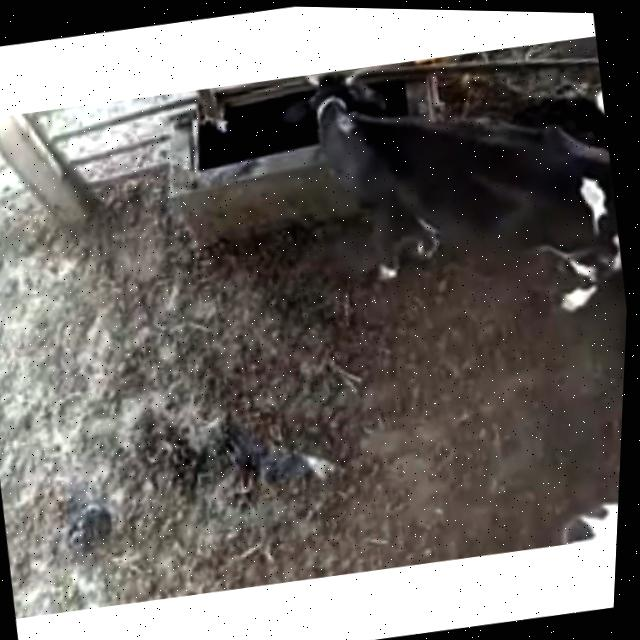drink: (227, 56, 431, 208)
